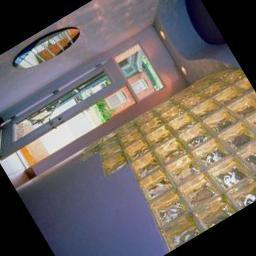Puerta: (0, 60, 124, 157)
